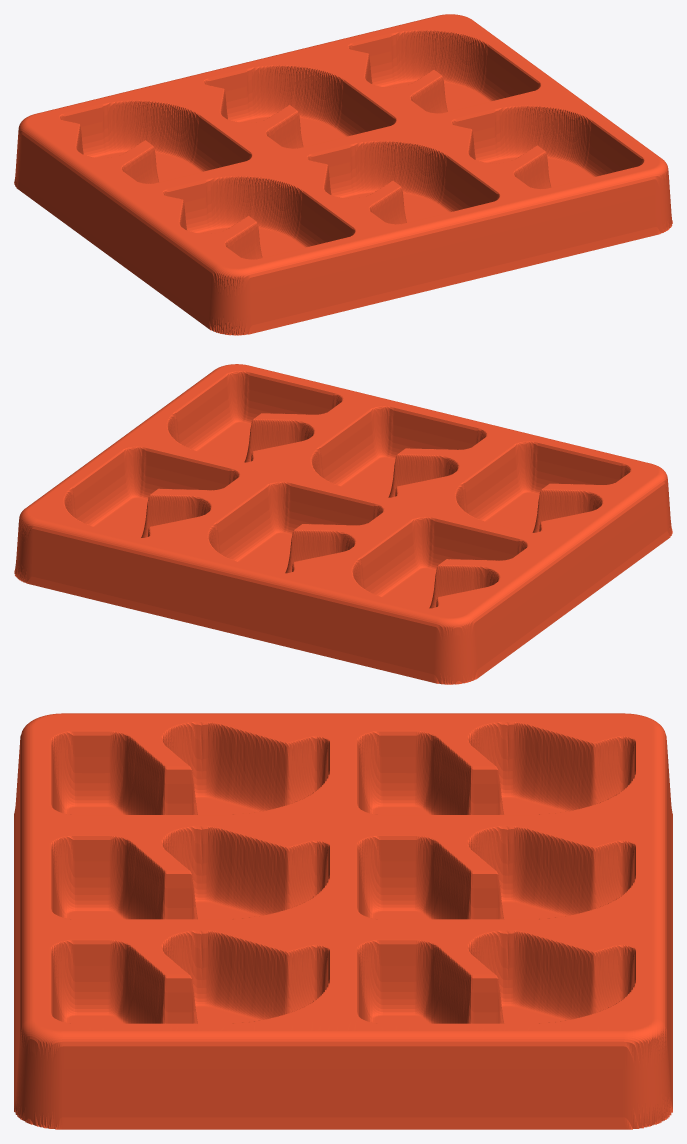
Rendered from mold.glb.
3 renders of one model, top to bottom at view 1: azimuth 30°, elevation 25°; view 2: azimuth 150°, elevation 25°; view 3: azimuth 270°, elevation 25°, orthographic. The views are drawn at different scales.
Visible parts, largest first — view 1: geometry_0; view 2: geometry_0; view 3: geometry_0.
Part boxes in pixels (x1,y1,x2,y2): geometry_0: (14,14,672,335); geometry_0: (14,364,672,684); geometry_0: (14,713,672,1129).
Size of the model in its own units: 0.146 by 0.0185 by 0.1222.
